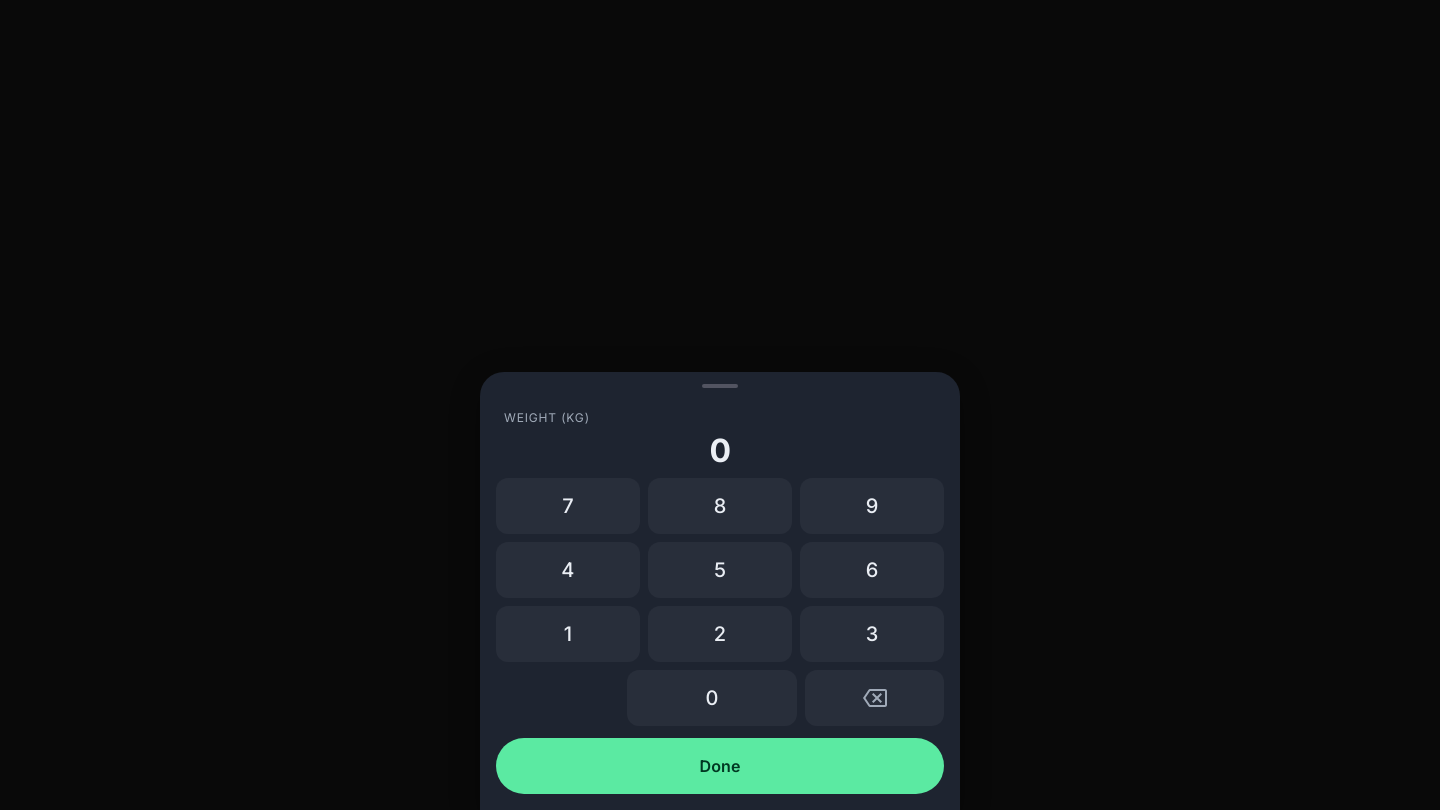
Test: NumpadBottomSheet › replaces leading zero with typed digit
The image size is (1440, 810).
Note: Display starts at "0", pressing "5" should result in "5" not "05"
Click the button "5": click(720, 570) [648, 542, 792, 598]
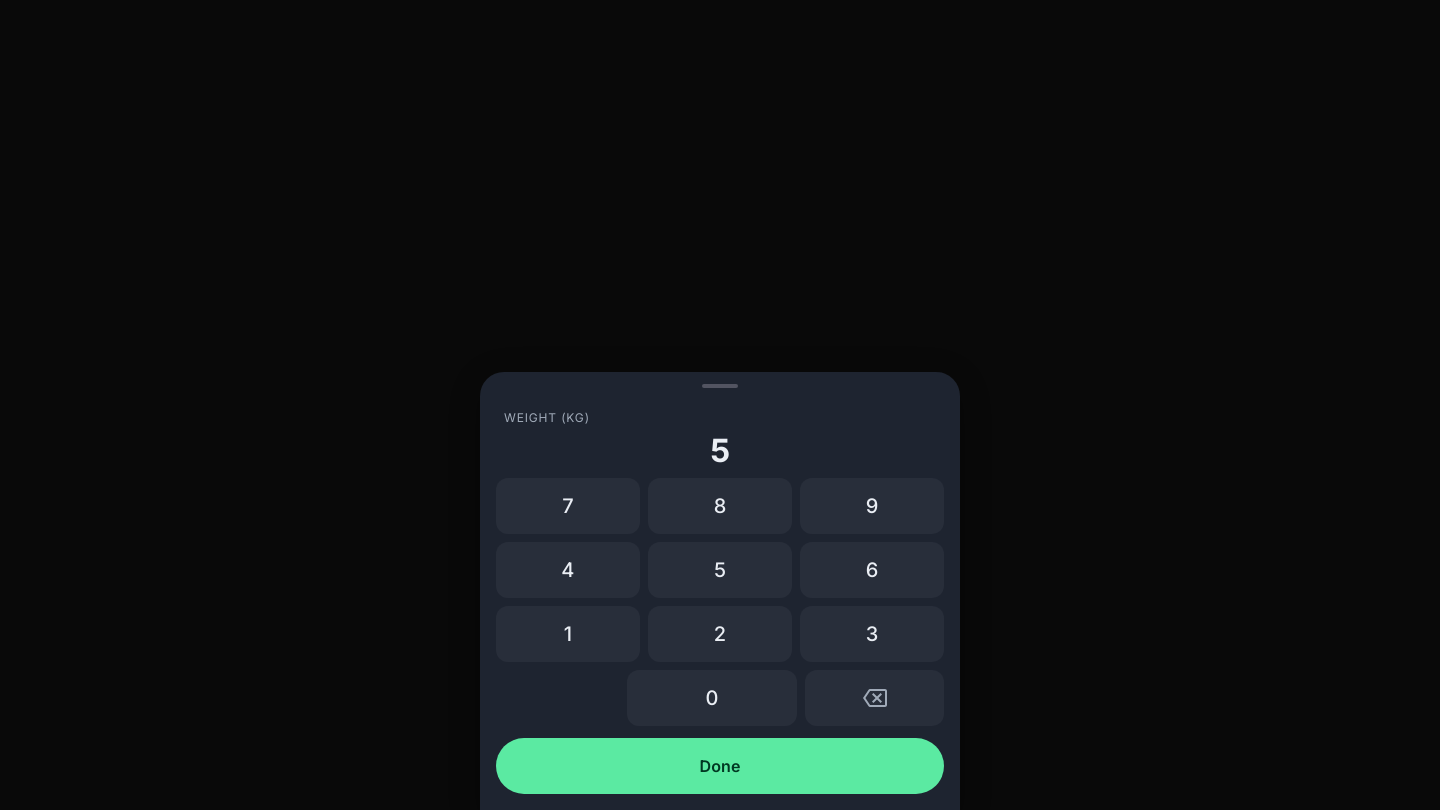
Check: the heading reads "5", box [710, 431, 730, 470]
